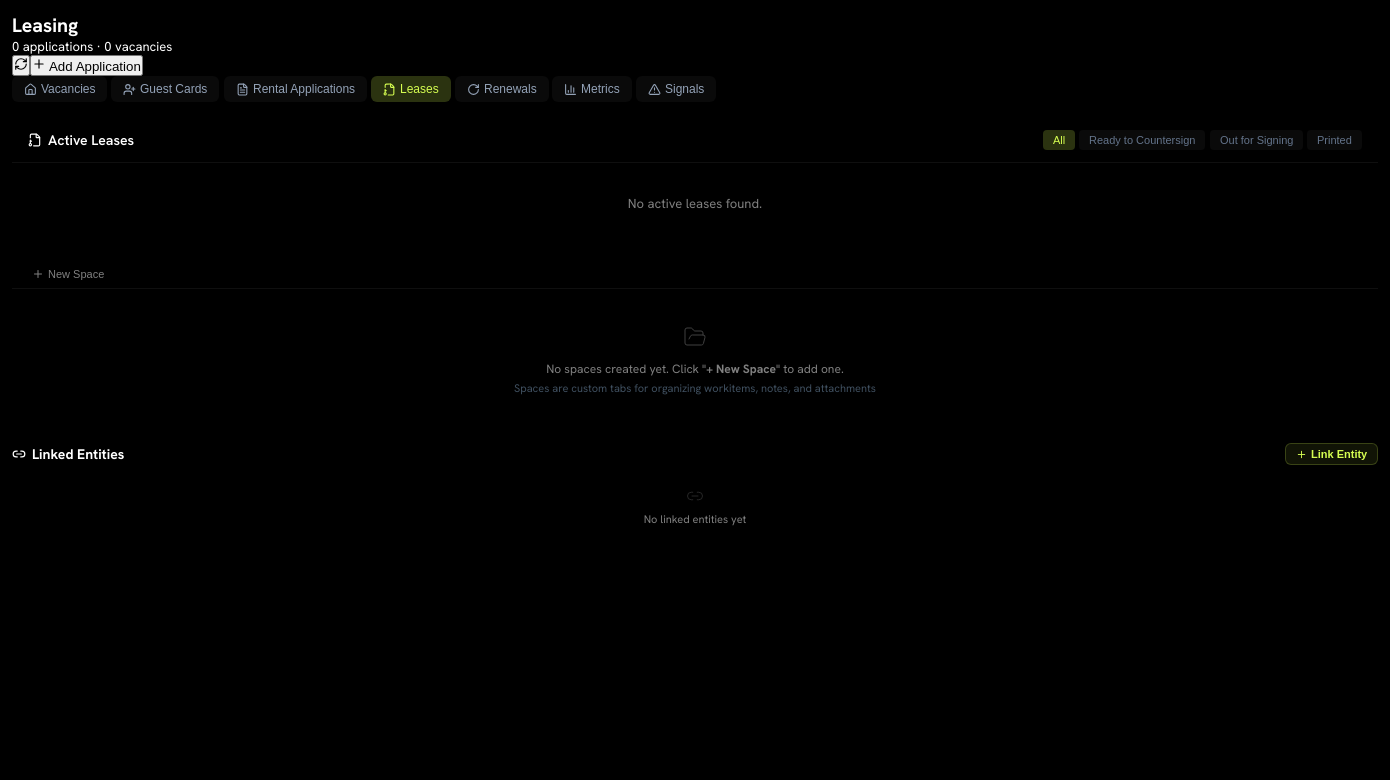
Scenario: LeasingModule · empty account → honest empty states, never the old hardcoded arrays › Rental Applications: honest empty state, no fake applicants
The image size is (1390, 780).
Click the button "Rental Applications": {"x": 295, "y": 89} x1=224 y1=76 x2=367 y2=102
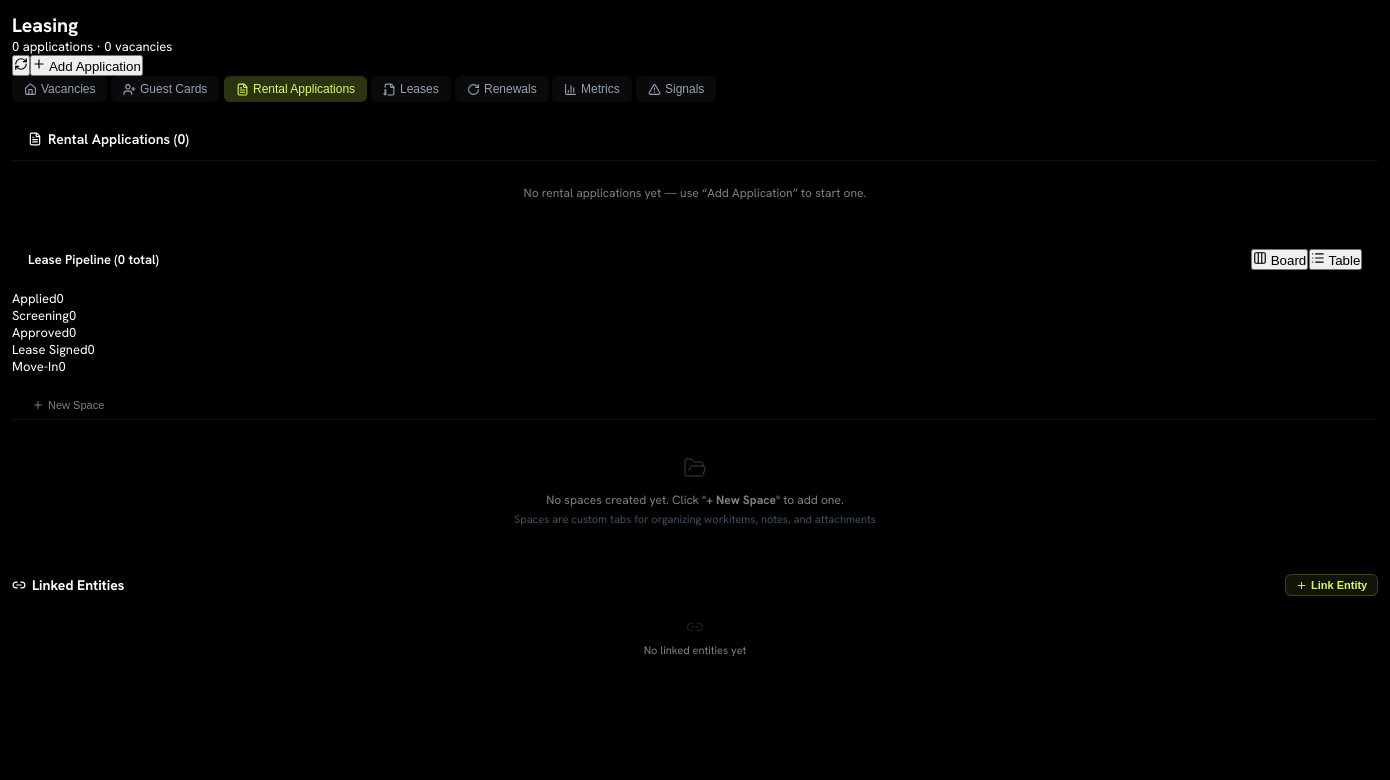
Result: the text "No rental applications yet" is shown at x1=524 y1=185 x2=866 y2=201
Result: the text "Rental Applications (0)" is shown at x1=12 y1=118 x2=1378 y2=161
